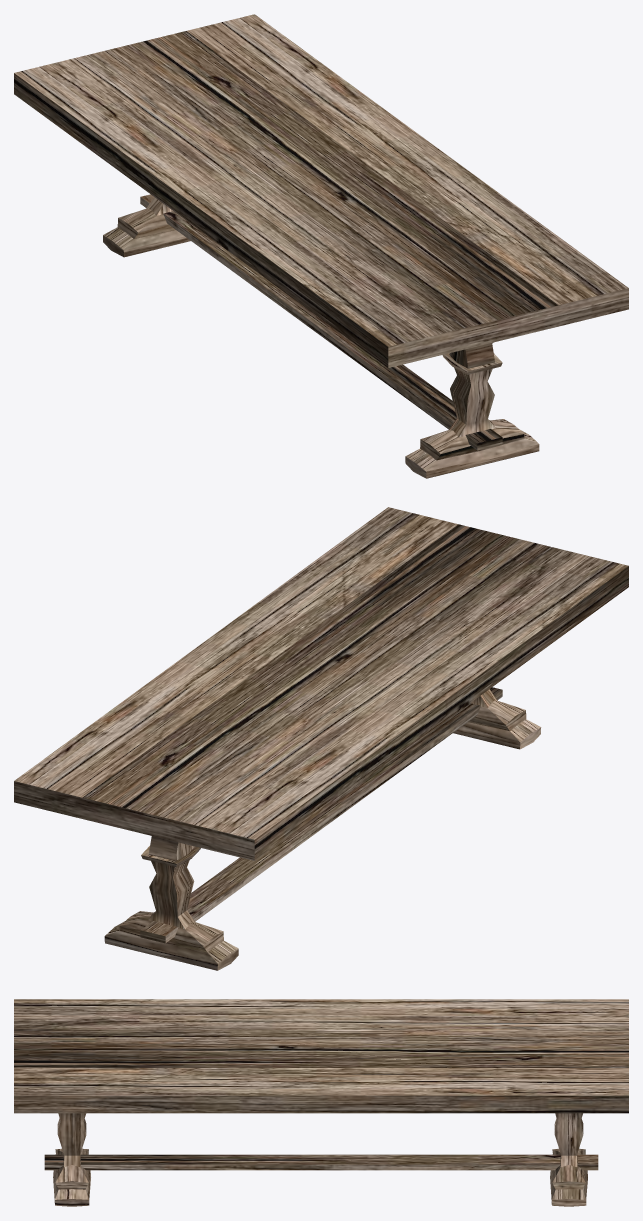
File: table.fbx
3 renders of one model, top to bottom at view 1: azimuth 30°, elevation 25°; view 2: azimuth 150°, elevation 25°; view 3: azimuth 270°, elevation 25°, orthographic. The views are drawn at different scales.
Visible parts, largest first — view 1: pCube8; view 2: pCube8; view 3: pCube8.
Part boxes in pixels (box(x1,y1,x2,y2)): pCube8: box(14, 14, 628, 478); pCube8: box(14, 507, 628, 970); pCube8: box(14, 999, 628, 1206).
Size of the model in its own units: 4.14 by 2.72 by 11.14.
1 material, 1 textured.
